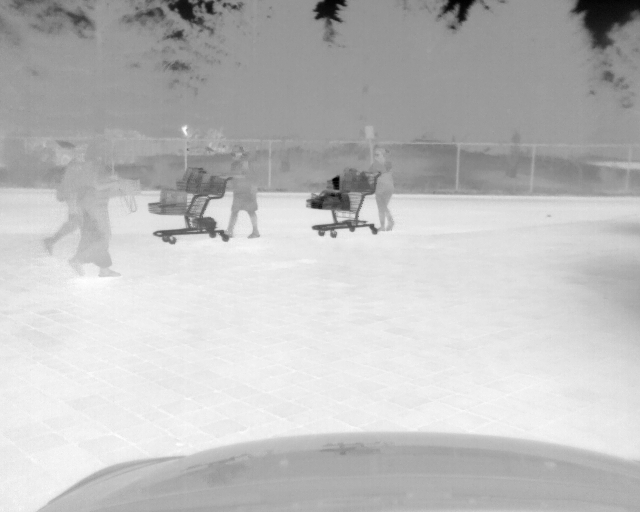people: (69, 139, 133, 278), (222, 145, 261, 241), (42, 160, 81, 255), (367, 145, 396, 233)
